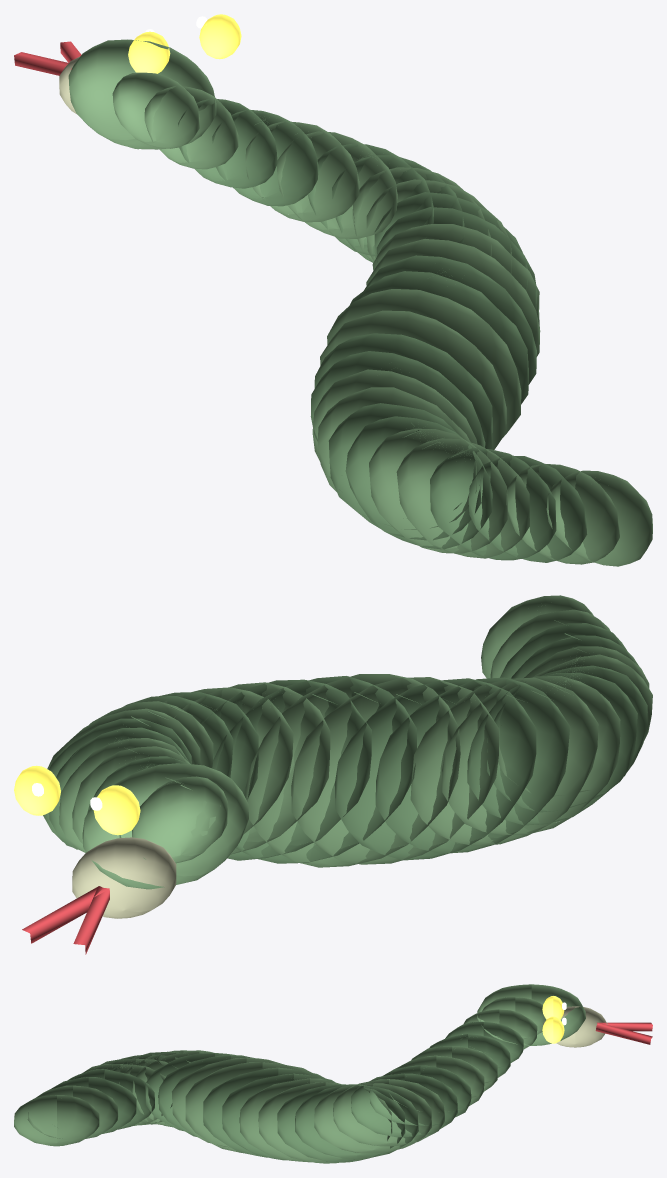
Rendered from enemy_snake.glb.
3 renders of one model, top to bottom at view 1: azimuth 30°, elevation 25°; view 2: azimuth 150°, elevation 25°; view 3: azimuth 270°, elevation 25°, orthographic. The views are drawn at different scales.
Parts seen in each view (by area): view 1: chinchilla; view 2: chinchilla; view 3: chinchilla.
Boxes of the visible parts, x1=… form: chinchilla: x1=14, y1=14, x2=652, y2=566; chinchilla: x1=14, y1=595, x2=652, y2=954; chinchilla: x1=14, y1=984, x2=652, y2=1163.
Size of the model in its own units: 0.3999 by 0.2961 by 1.17.
